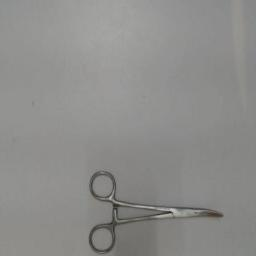Crile Artery Forceps: (86, 164, 228, 254)
